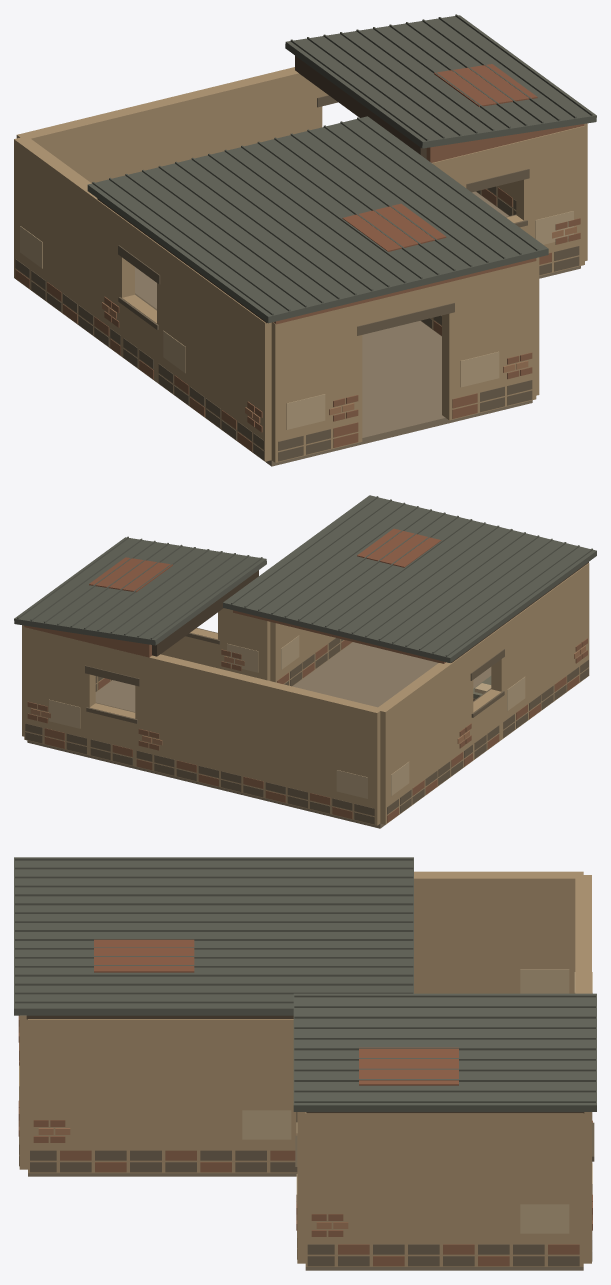
The model's file is FSA_ENV_Abandoned_House_03_Corner.glb.
The picture shows the model from 3 angles, top to bottom: view 1: azimuth 30°, elevation 25°; view 2: azimuth 150°, elevation 25°; view 3: azimuth 270°, elevation 25°; orthographic projection. The views are drawn at different scales.
Parts seen in each view (by area): view 1: Roof_West, Roof_Wing, BackLeft, WestLeft, WestRight, FrontRight, FrontLeft, Floor_West, NotchFrontRight, RoofPatch_284, RoofPatch_296, FrontLintel (+31 smaller); view 2: Roof_West, BackLeft, Roof_Wing, WestLeft, WestRight, Floor_West, BackRight, NotchFrontLeft, NotchEast, BackSill, RoofPatch_284, RoofPatch_296 (+24 smaller); view 3: Roof_West, East, NotchEast, Roof_Wing, WestLeft, RoofPatch_296, RoofPatch_284, BackLeft, RoofRib_269, RoofRib_270, RoofRib_271, RoofRib_272 (+34 smaller).
Boxes of the visible parts, left/top/right/bottom form: Roof_West: left=87, top=116, right=548, bottom=323; Roof_Wing: left=285, top=15, right=596, bottom=148; BackLeft: left=16, top=67, right=322, bottom=183; WestLeft: left=14, top=136, right=134, bottom=356; WestRight: left=157, top=244, right=271, bottom=461; FrontRight: left=442, top=261, right=536, bottom=420; FrontLeft: left=271, top=303, right=362, bottom=462; Floor_West: left=135, top=267, right=532, bottom=466; NotchFrontRight: left=516, top=126, right=584, bottom=275; RoofPatch_284: left=342, top=203, right=446, bottom=251; RoofPatch_296: left=434, top=64, right=537, bottom=106; FrontLintel: left=362, top=282, right=449, bottom=325; Roof_West: left=223, top=495, right=596, bottom=662; BackLeft: left=135, top=654, right=380, bottom=825; Roof_Wing: left=14, top=537, right=266, bottom=645; WestLeft: left=375, top=648, right=473, bottom=824; WestRight: left=491, top=563, right=589, bottom=739; Floor_West: left=168, top=642, right=491, bottom=828; BackRight: left=24, top=627, right=95, bottom=755; NotchFrontLeft: left=218, top=608, right=270, bottom=680; NotchEast: left=270, top=622, right=352, bottom=686; BackSill: left=89, top=703, right=135, bottom=766; RoofPatch_284: left=357, top=528, right=441, bottom=567; RoofPatch_296: left=89, top=557, right=172, bottom=592; Roof_West: left=14, top=857, right=413, bottom=1015; East: left=305, top=1112, right=583, bottom=1266; NotchEast: left=28, top=1019, right=296, bottom=1173; Roof_Wing: left=293, top=993, right=596, bottom=1111; WestLeft: left=414, top=871, right=583, bottom=993; RoofPatch_296: left=359, top=1047, right=458, bottom=1085; RoofPatch_284: left=94, top=939, right=194, bottom=972; BackLeft: left=575, top=875, right=591, bottom=993; RoofRib_269: left=15, top=875, right=413, bottom=878; RoofRib_270: left=15, top=884, right=413, bottom=887; RoofRib_271: left=15, top=893, right=413, bottom=896; RoofRib_272: left=15, top=902, right=413, bottom=905.
Bounding box in the file's own units: 10.46 × 3.77 × 10.49.
